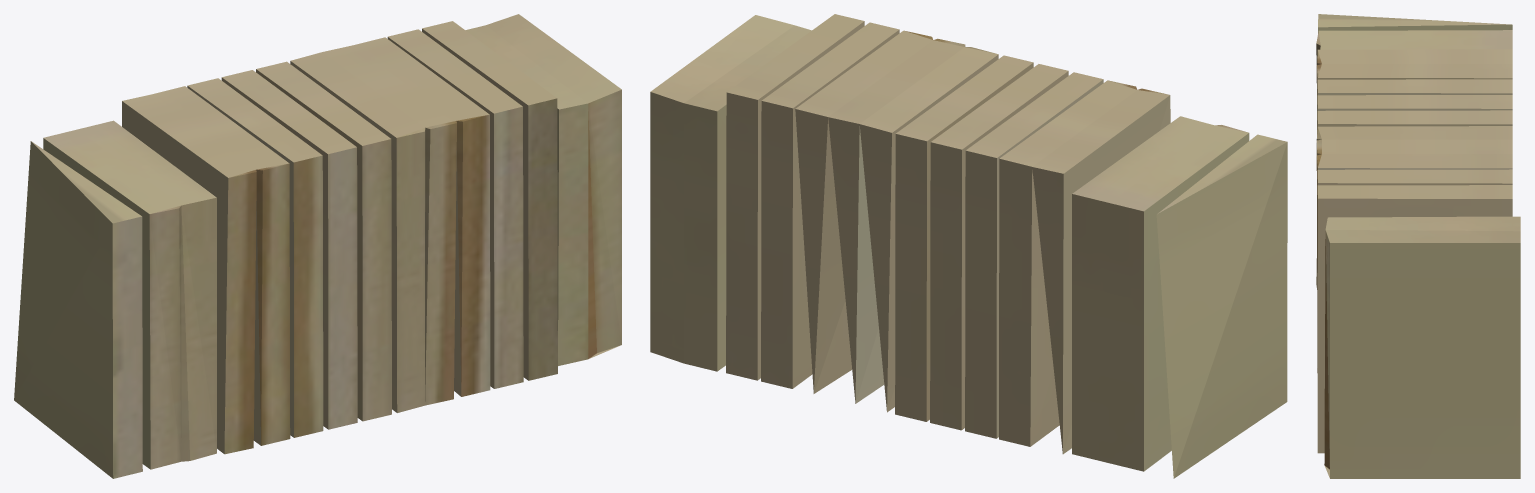
File: book1_v1.dae
The picture shows the model from 3 angles, left to right: view 1: azimuth 30°, elevation 25°; view 2: azimuth 150°, elevation 25°; view 3: azimuth 270°, elevation 25°; orthographic projection. The views are drawn at different scales.
Visible parts, largest first — view 1: node; view 2: node; view 3: node.
Boxes of the visible parts, <box> form: node: <box>14,14,621,478</box>; node: <box>650,14,1287,478</box>; node: <box>1316,14,1520,478</box>.
Bounding box in the file's own units: 0.3381 × 0.1733 × 0.1256.
Materials: 1 (1 with a texture image).
